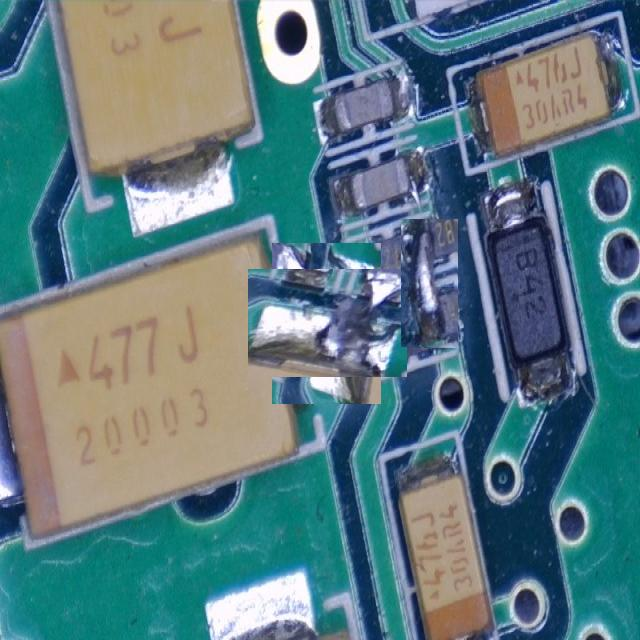Short_circuit: (247, 270, 407, 377), (402, 220, 456, 347)
